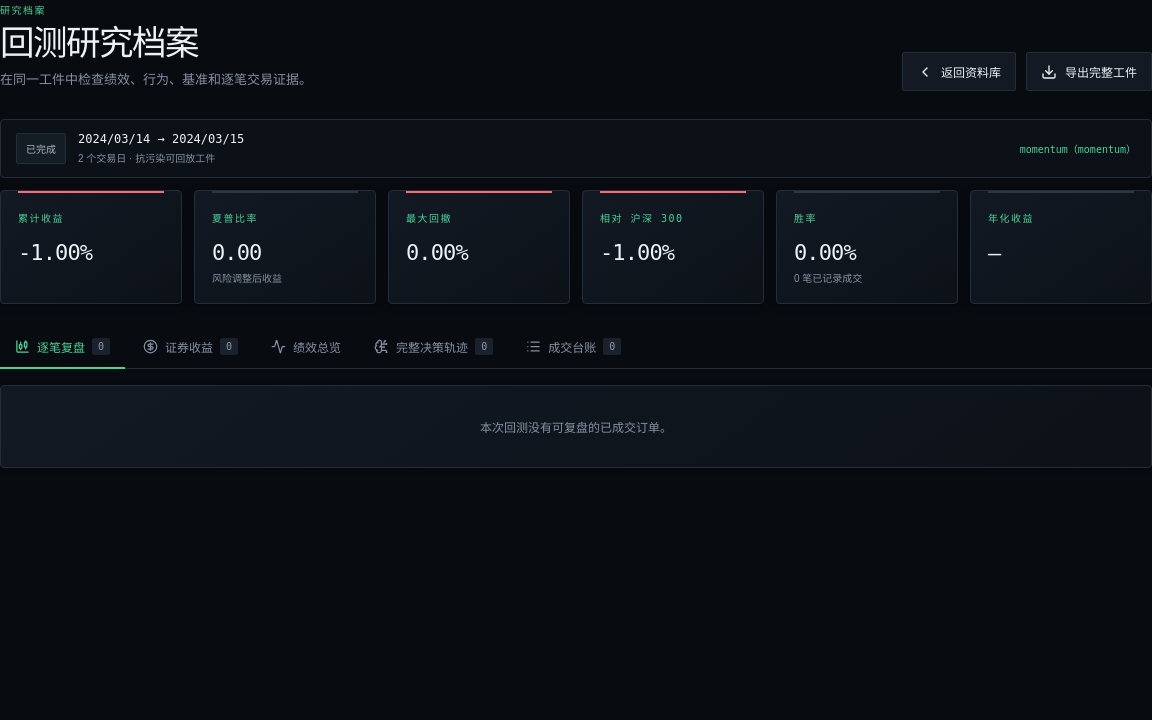
Results › shows audited conditional-order state beside the trade ledger
Click the button "成交台账 0": (574, 348) [511,326,636,369]
(page scrolled)
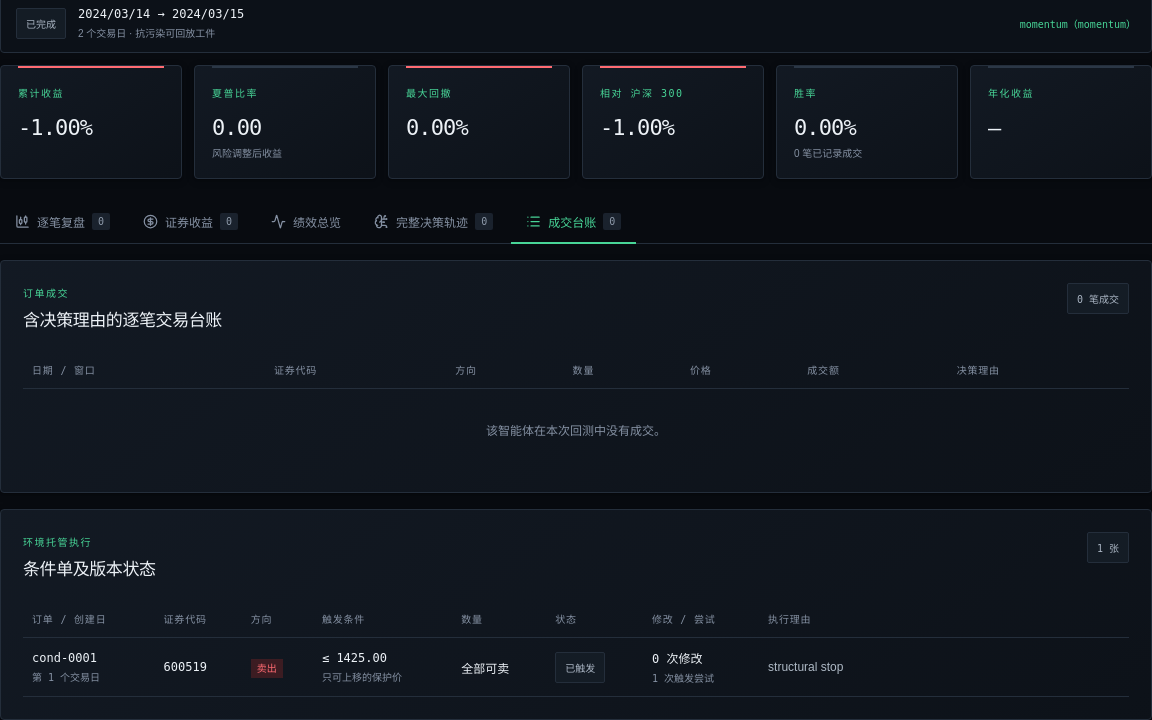
expect the heading "条件单及版本状态" is shown: met, box [23,555,156,580]
expect the text "cond-0001" is shown: met, box [32,651,97,665]
expect the text "≤ 1425.00" is shown: met, box [313,638,452,697]
